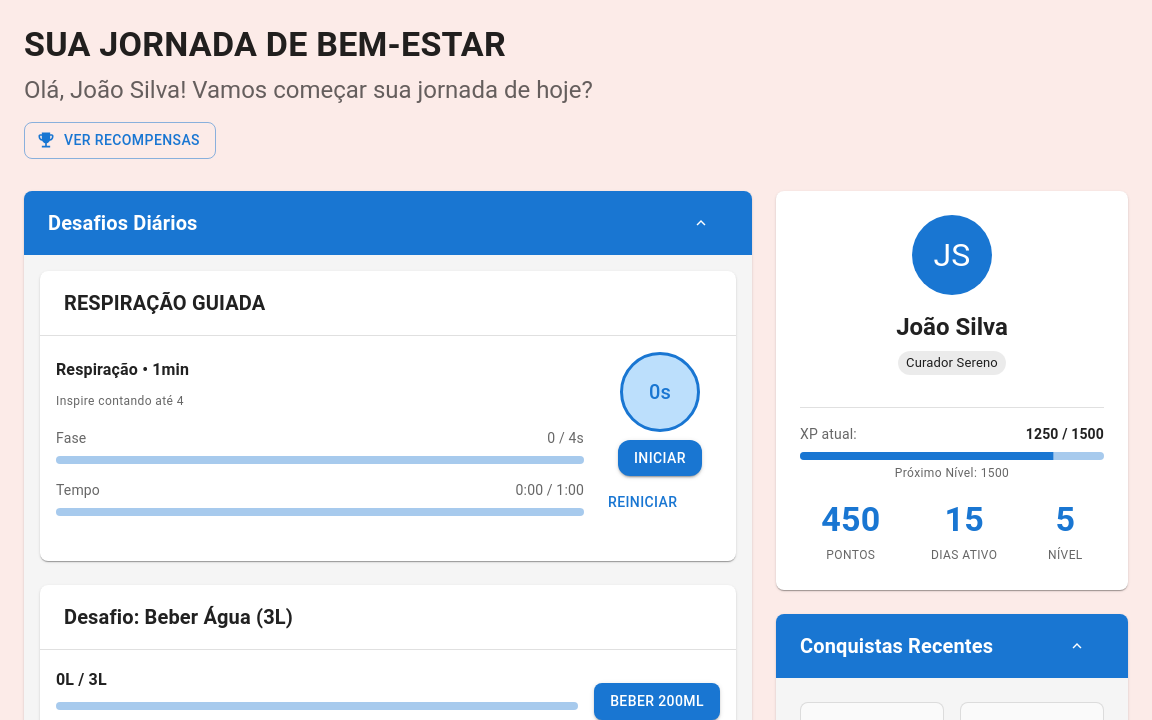
Test case: Home (Jornada) Interactive Components › Water Challenge › should increment water consumption when clicking drink button
Check: the heading "0L / 3L" is shown, box [56, 670, 107, 688]
Step 1. Click the button "Beber 200ml" → (657, 701), box [594, 683, 720, 719]
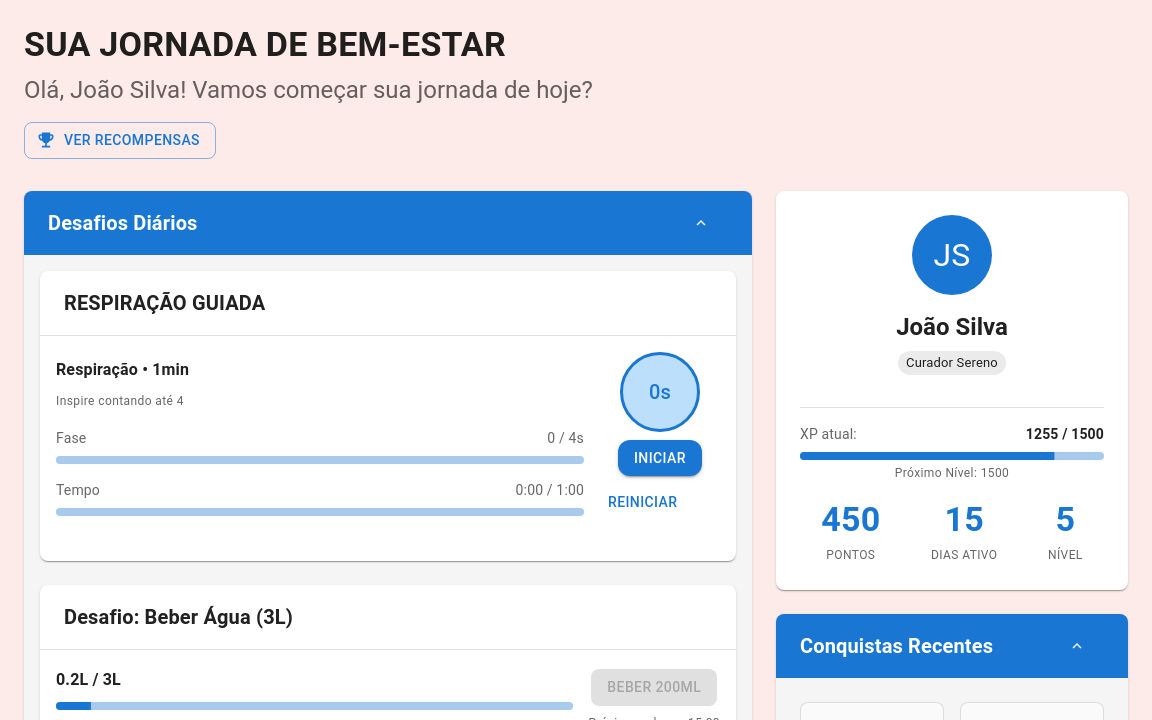
Check: the heading "0.2L / 3L" is shown, box [56, 670, 121, 688]
